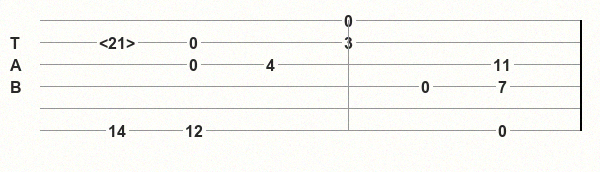0: (189, 34, 202, 50), (189, 56, 202, 72), (344, 12, 357, 28), (421, 78, 434, 94), (498, 122, 511, 138)
11: (493, 56, 515, 72)
12: (185, 122, 207, 138)
14: (108, 122, 130, 138)
3: (344, 34, 357, 50)
4: (266, 56, 279, 72)
7: (498, 78, 511, 94)
harmonic: (99, 34, 139, 50)
